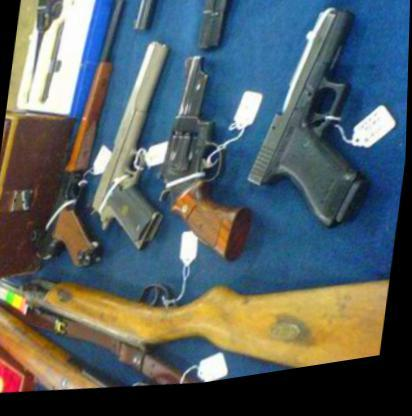pistol: (238, 1, 386, 264), (145, 48, 271, 282), (81, 36, 187, 274)
